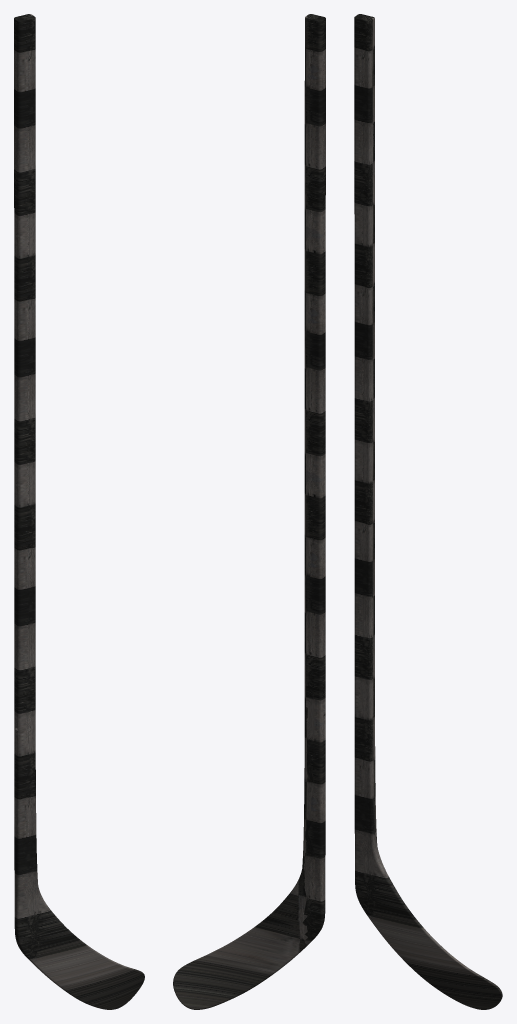
3 renders of one model, left to right at view 1: azimuth 30°, elevation 25°; view 2: azimuth 150°, elevation 25°; view 3: azimuth 330°, elevation 25°, orthographic. The views are drawn at different scales.
Parts seen in each view (by area): view 1: geometry_0; view 2: geometry_0; view 3: geometry_0.
Boxes of the visible parts, bbox=[...] form: geometry_0: bbox=[14, 14, 144, 1009]; geometry_0: bbox=[173, 14, 325, 1009]; geometry_0: bbox=[354, 14, 502, 1009].
Size of the model in its own units: 237 by 1650 by 57.02.
Materials: 1 (1 with a texture image).
